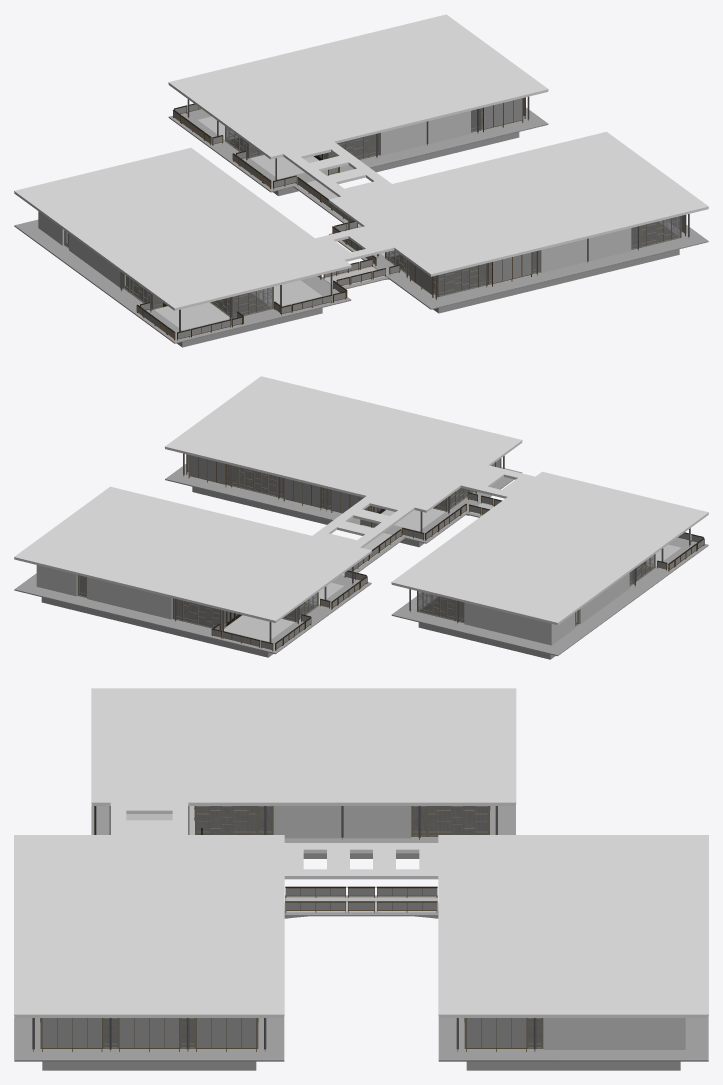
File: 03_03_gallery.fbx
The picture shows the model from 3 angles, top to bottom: view 1: azimuth 30°, elevation 25°; view 2: azimuth 150°, elevation 25°; view 3: azimuth 270°, elevation 25°; orthographic projection. The views are drawn at different scales.
Visible parts, largest first — view 1: Roof01, Roof02, Podium02, Podium01, Podium03, Wall_brick41, Wall_brick32, Screen010, Screen07, Wall_inner0133, Window_glass_corner022, Window_glass_corner025 (+3 smaller); view 2: Roof01, Roof02, Podium03, Podium02, Podium01, Wall_brick35, Wall_brick24, Wall_brick29, Screen04, Screen05, Wall_inner0133, Window_glass_corner042 (+4 smaller); view 3: Roof01, Roof02, Podium01, Podium03, Podium02, Wall_brick27, Wall_brick40, Bridge_long01, Screen03, Screen01, Screen02, Screen09 (+6 smaller).
Boxes of the visible parts, <box> form: Roof01: <box>168,14,708,276</box>; Roof02: <box>14,148,394,310</box>; Podium02: <box>14,219,351,347</box>; Podium01: <box>329,221,708,313</box>; Podium03: <box>168,107,548,196</box>; Wall_brick41: <box>540,228,631,272</box>; Wall_brick32: <box>380,111,470,155</box>; Screen010: <box>483,98,523,132</box>; Screen07: <box>492,252,532,286</box>; Wall_inner0133: <box>69,234,120,287</box>; Window_glass_corner022: <box>641,216,679,246</box>; Window_glass_corner025: <box>439,265,477,295</box>; Roof01: <box>14,376,522,622</box>; Roof02: <box>391,465,708,625</box>; Podium03: <box>14,573,371,657</box>; Podium02: <box>391,537,708,659</box>; Podium01: <box>165,464,522,547</box>; Wall_brick35: <box>464,602,551,645</box>; Wall_brick24: <box>87,577,172,619</box>; Wall_brick29: <box>36,565,77,596</box>; Screen04: <box>188,455,226,486</box>; Screen05: <box>283,478,321,509</box>; Wall_inner0133: <box>579,573,629,624</box>; Window_glass_corner042: <box>418,591,454,619</box>; Roof01: <box>14,835,708,1017</box>; Roof02: <box>91,688,516,834</box>; Podium01: <box>14,1018,284,1070</box>; Podium03: <box>438,1018,708,1070</box>; Podium02: <box>91,806,515,858</box>; Wall_brick27: <box>543,1018,685,1049</box>; Wall_brick40: <box>273,806,411,838</box>; Bridge_long01: <box>284,895,438,918</box>; Screen03: <box>42,1018,102,1051</box>; Screen01: <box>119,1018,179,1051</box>; Screen02: <box>196,1018,256,1051</box>; Screen09: <box>466,1018,526,1051</box>.
Bounding box in the file's own units: 61 × 5.94 × 54.9.
